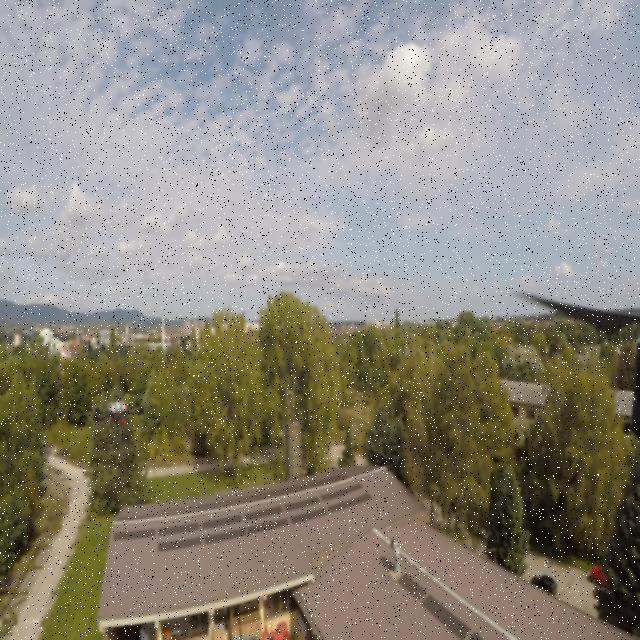UAV: (89, 392, 146, 461)
